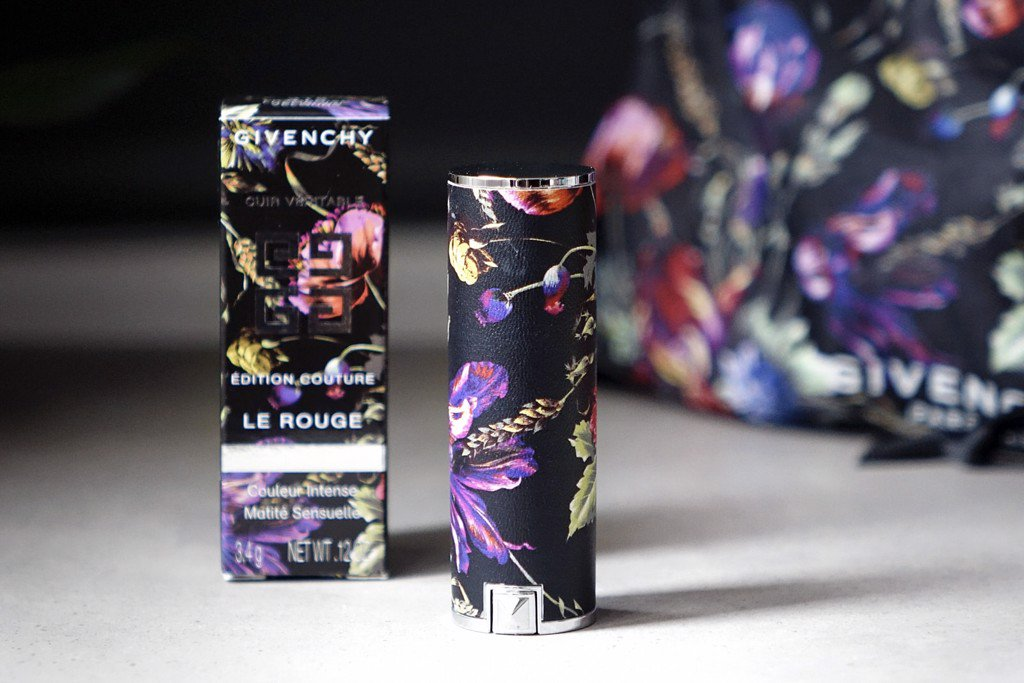GIVENCHY: (226, 118, 377, 152)
